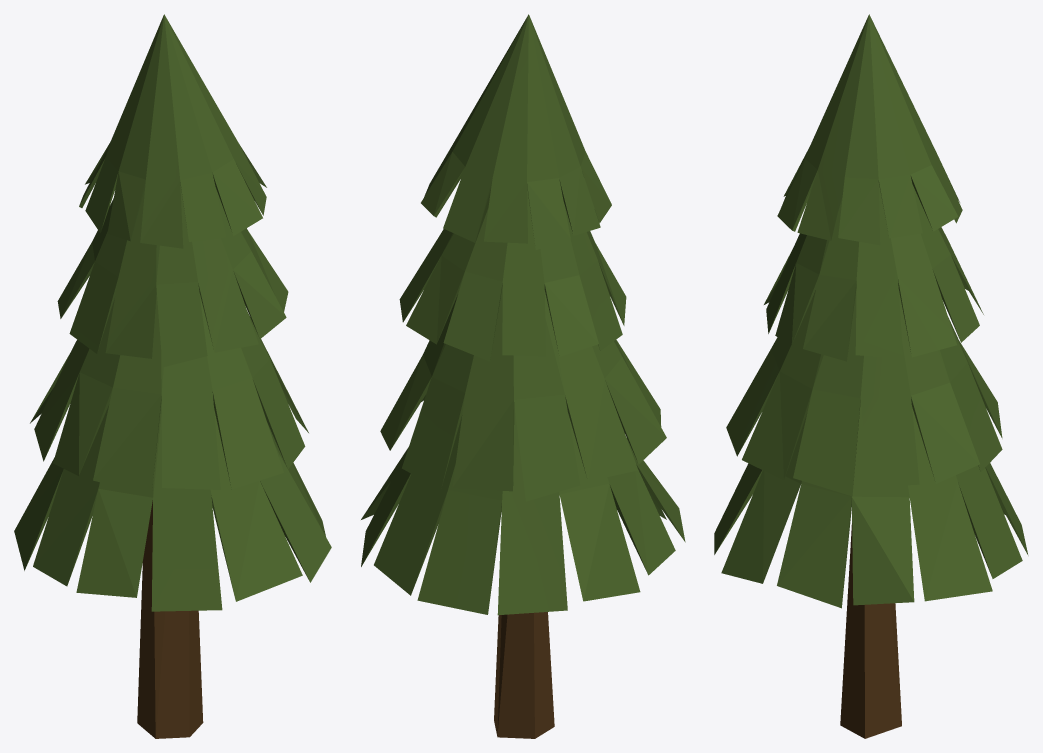
The model's file is Tree_02 2.glb.
3 views of the same model, side by side, from view 1: azimuth 30°, elevation 25°; view 2: azimuth 150°, elevation 25°; view 3: azimuth 270°, elevation 25° (orthographic).
Parts seen in each view (by area): view 1: Tree_02_LOD0; view 2: Tree_02_LOD0; view 3: Tree_02_LOD0.
Part boxes in pixels (box(x1,y1,x2,y2)): Tree_02_LOD0: box(14, 14, 331, 738); Tree_02_LOD0: box(361, 14, 685, 738); Tree_02_LOD0: box(714, 14, 1028, 738).
Size of what is drawn, in the model's own units: 1.67 by 4.22 by 1.7.
1 material, 1 textured.
